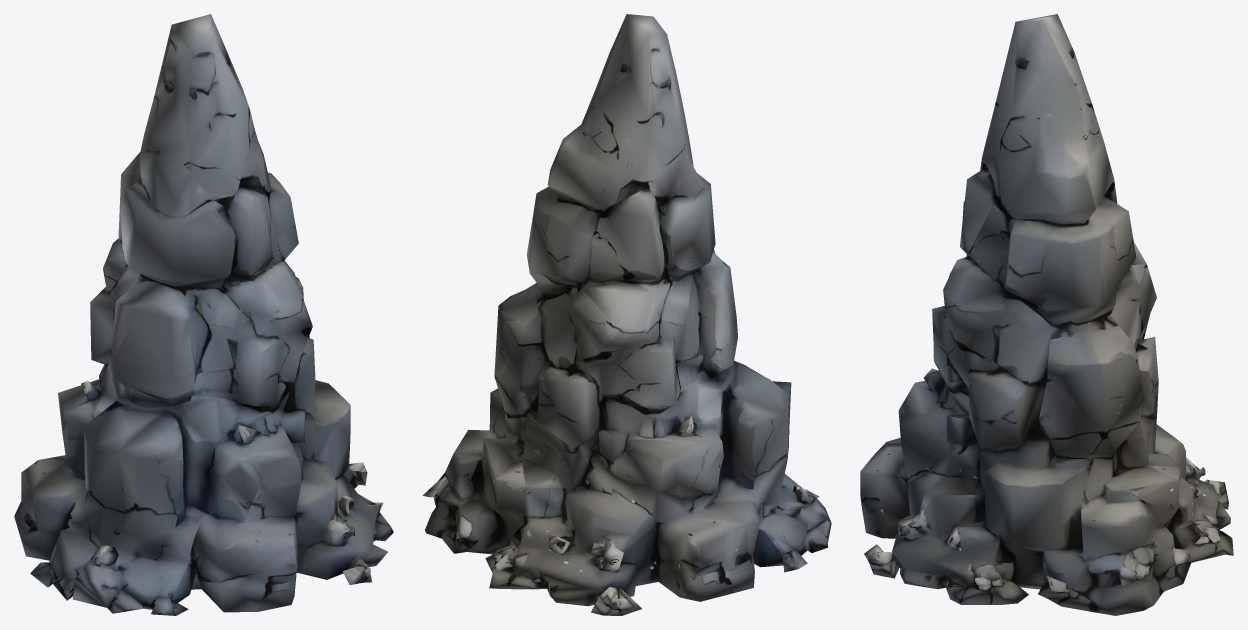
The model's file is env-rock3.glb.
3 renders of one model, left to right at view 1: azimuth 30°, elevation 25°; view 2: azimuth 150°, elevation 25°; view 3: azimuth 270°, elevation 25°, orthographic.
Parts seen in each view (by area): view 1: tripo_node_4491bc87-fb1a-473b-90d8-516ab35d65d3; view 2: tripo_node_4491bc87-fb1a-473b-90d8-516ab35d65d3; view 3: tripo_node_4491bc87-fb1a-473b-90d8-516ab35d65d3.
Boxes of the visible parts, left/top/right/bottom form: tripo_node_4491bc87-fb1a-473b-90d8-516ab35d65d3: left=14, top=14, right=393, bottom=615; tripo_node_4491bc87-fb1a-473b-90d8-516ab35d65d3: left=423, top=14, right=831, bottom=615; tripo_node_4491bc87-fb1a-473b-90d8-516ab35d65d3: left=860, top=14, right=1233, bottom=615.
Bounding box in the file's own units: 0.6749 × 0.9944 × 0.6499.
Materials: 1 (1 with a texture image).
